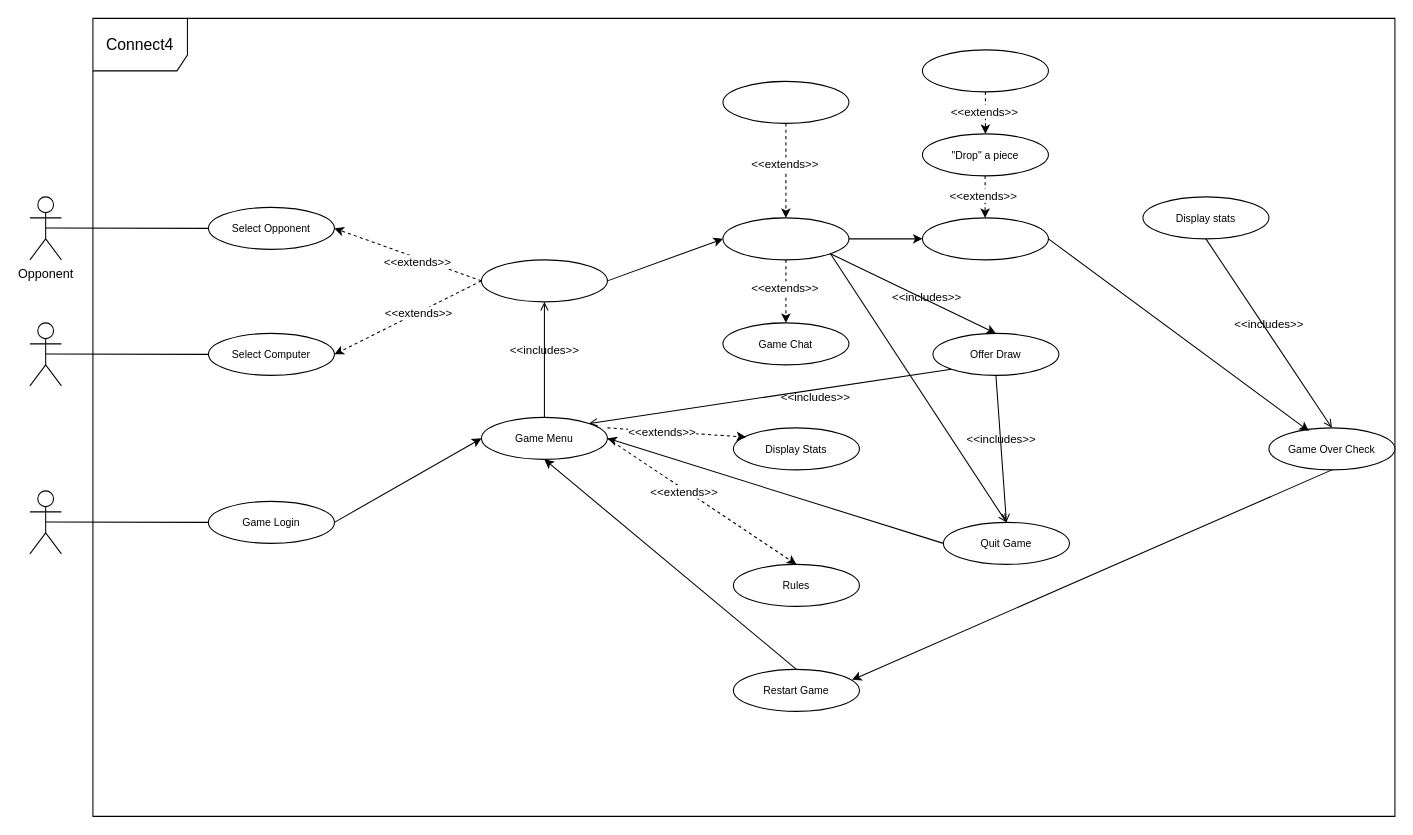
The diagram is 1413 pixels wide and 835 high, and some of its shapes have lost their labels. The shapes that lost their labels are listed below. From the top down, each one's centre as x and y in pixels, then its label:
At point (984, 70): "Throw Invalid Move".
At point (785, 101): "Assign a piece for drop".
At point (785, 238): "Start Game".
At point (984, 238): "Assign Move".
At point (543, 280): "Match Making".
At point (45, 354): "Computer".
At point (45, 522): "Player".
